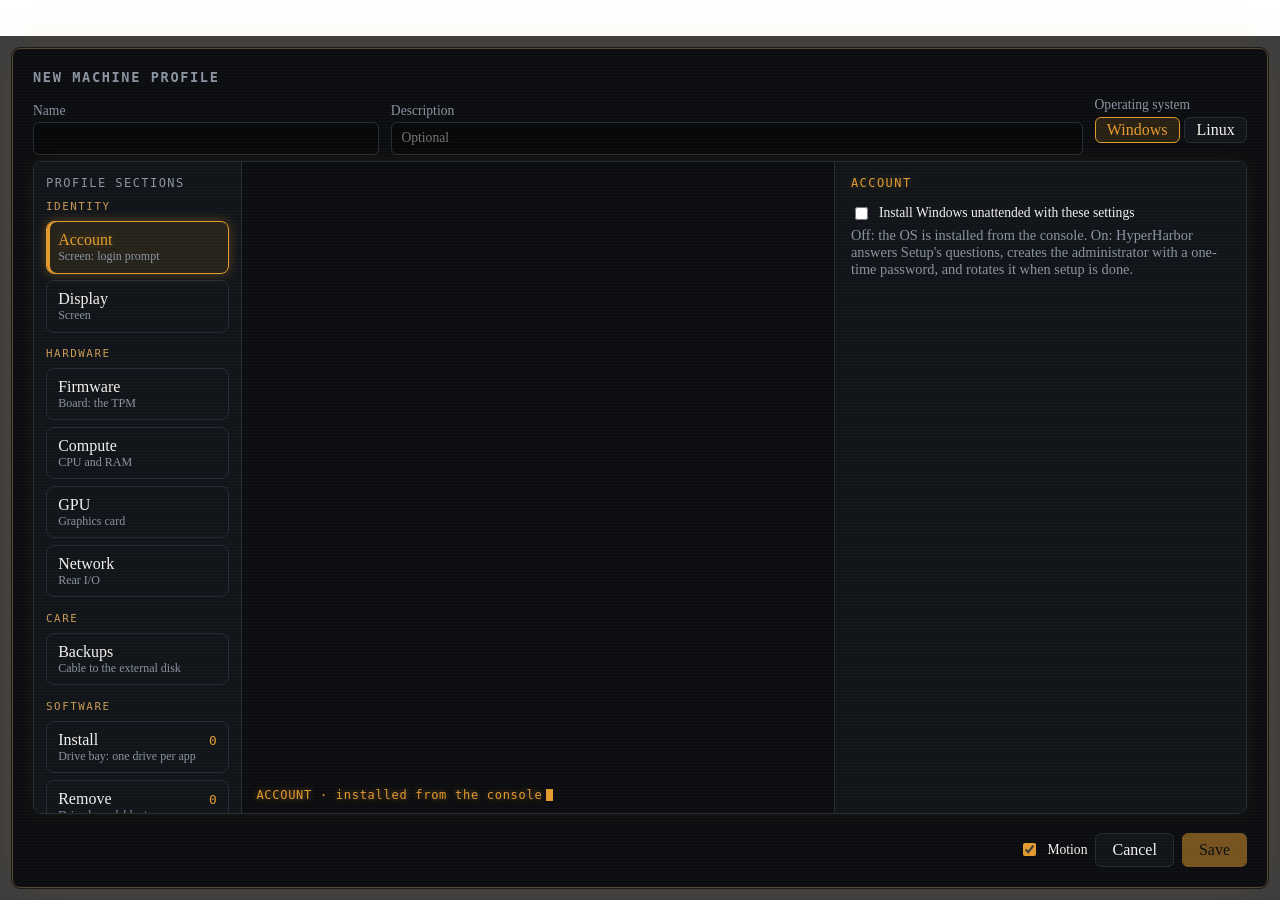
Scenario: MachineProfileEditor › keeps Performance mode and software to Windows
Click the radio button labelled "Linux" at (1216, 130), box [1184, 117, 1247, 143]
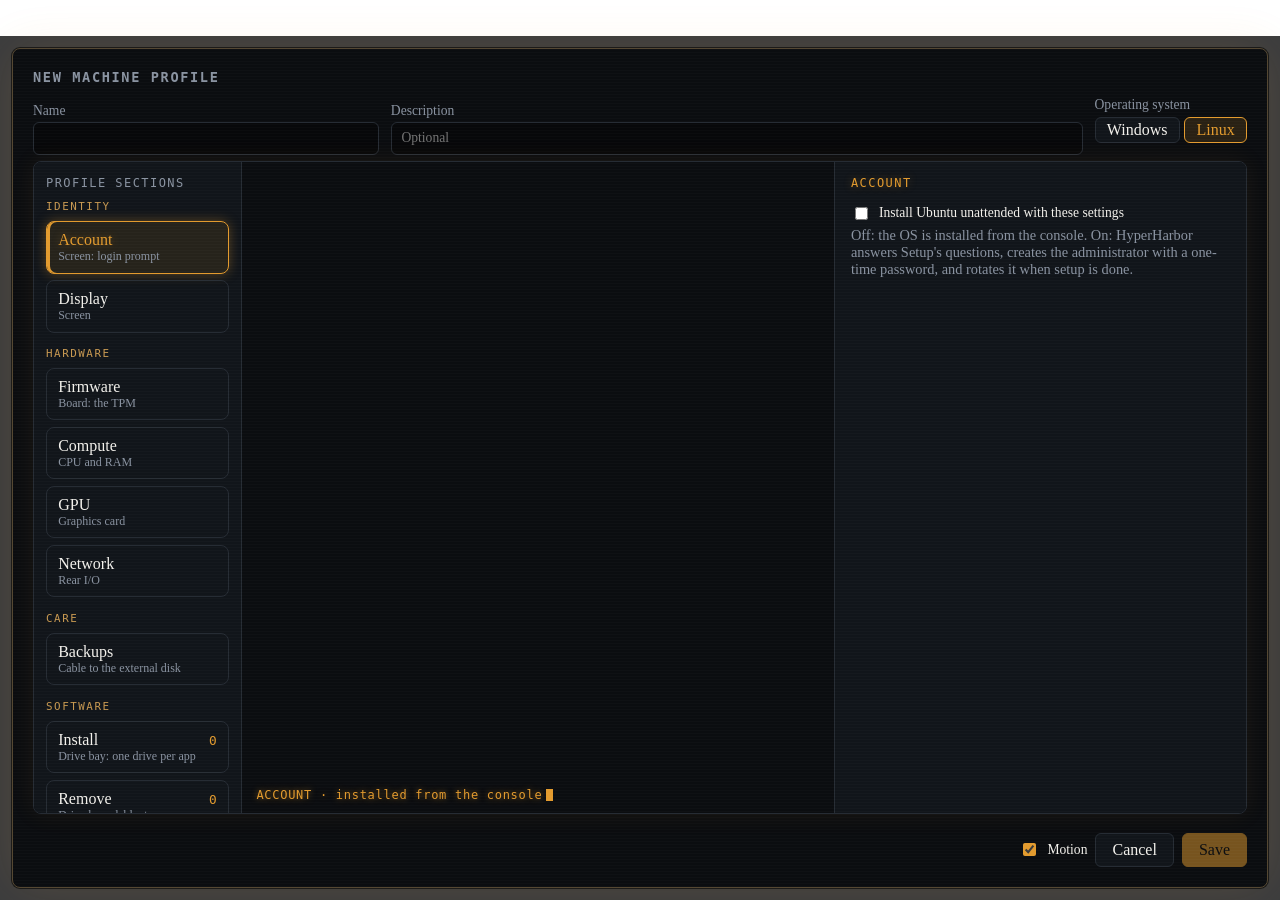
Click the tab "GPU Graphics card" at (138, 512), box [46, 486, 229, 538]
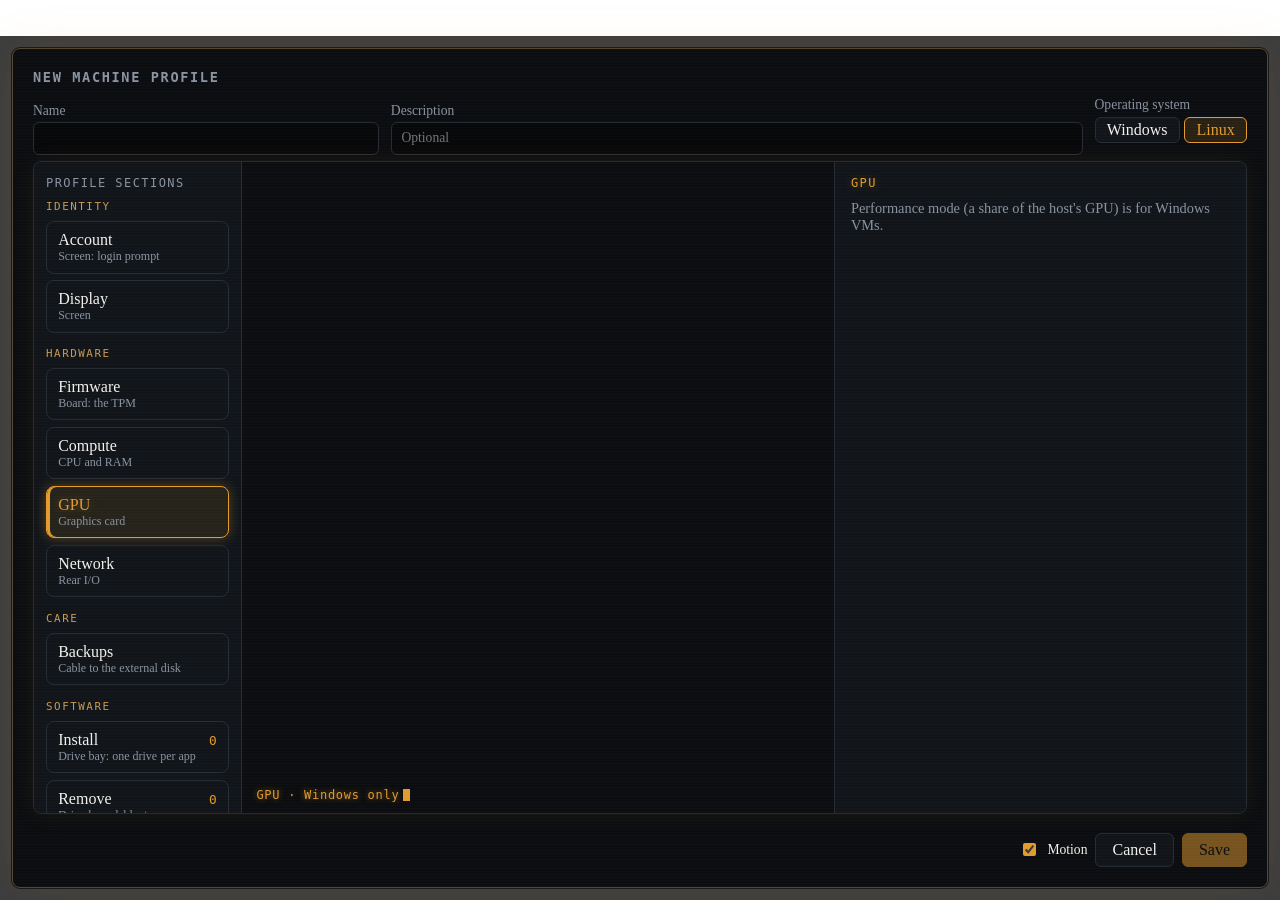
Now the text "Performance mode (a share of the host's GPU) is for Windows VMs" is shown, box [851, 200, 1210, 233]
Click the tab "Install 0 Drive bay: one drive per app" at (138, 747), box [46, 721, 229, 773]
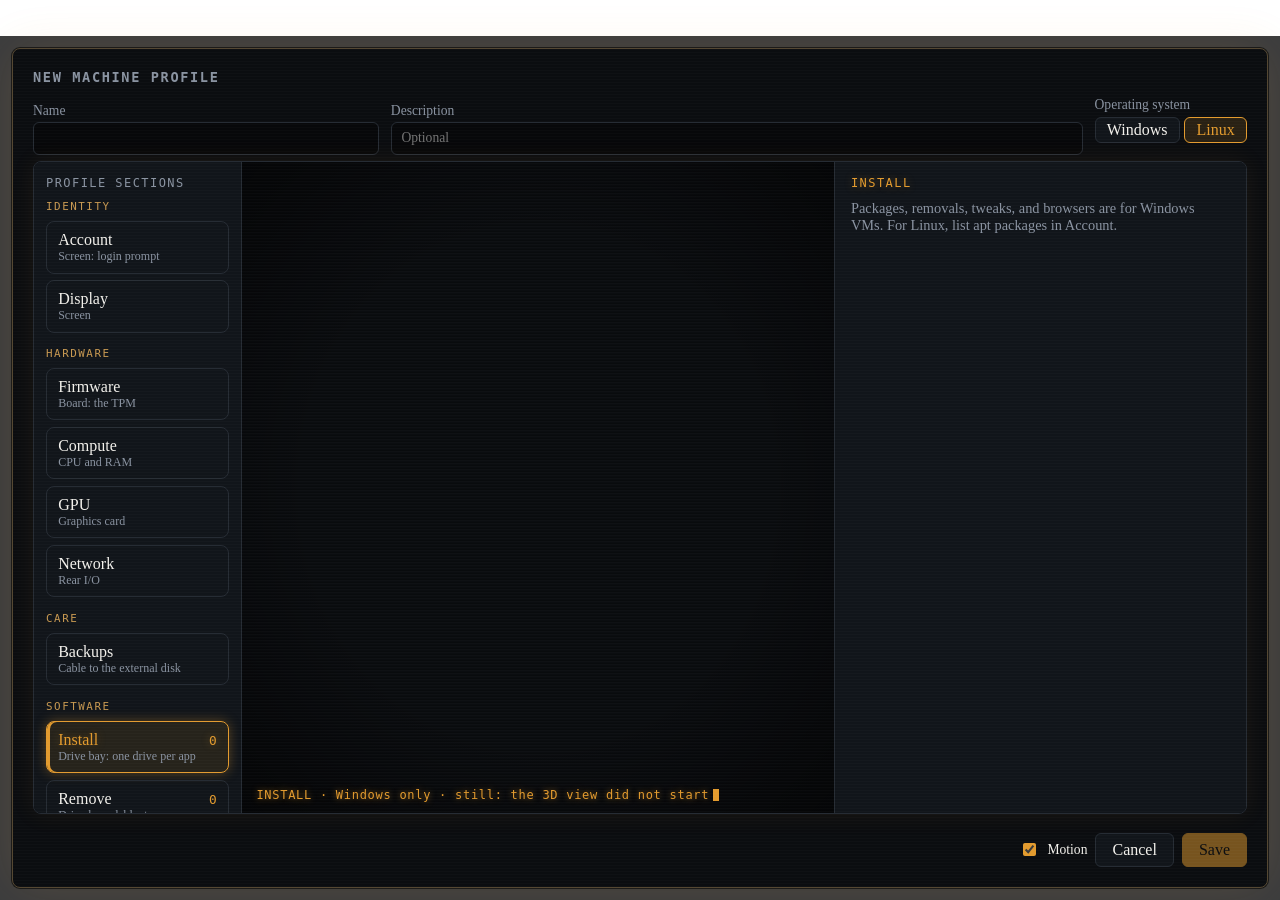
Now the text "are for Windows VMs" is shown, box [851, 200, 1194, 233]
